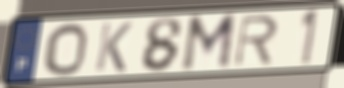1: (298, 7, 321, 68)
8: (142, 16, 185, 73)
K: (92, 21, 135, 74)
M: (178, 11, 239, 75)
O: (42, 21, 90, 77)
R: (232, 13, 281, 69)
